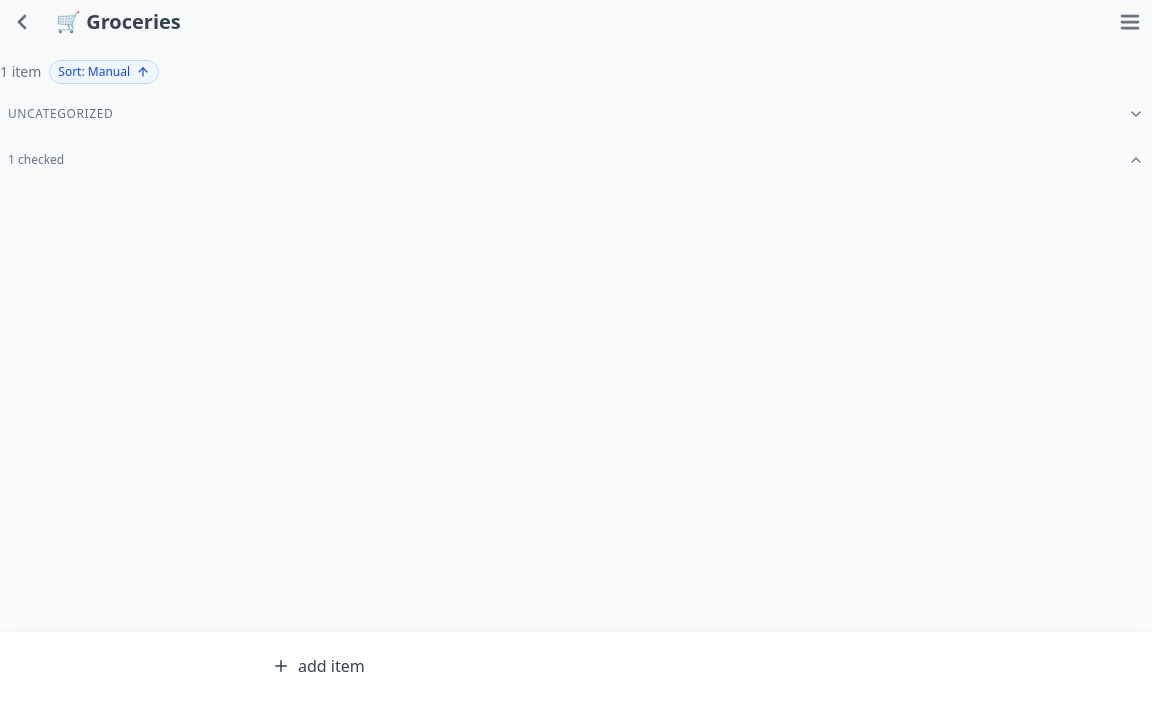
Test: ListPage menu presentation › keeps the delete checked modal open and reports errors when cleanup fails
The image size is (1152, 720).
Click the button named "List options".
click(1130, 22)  # box [1108, 0, 1151, 44]
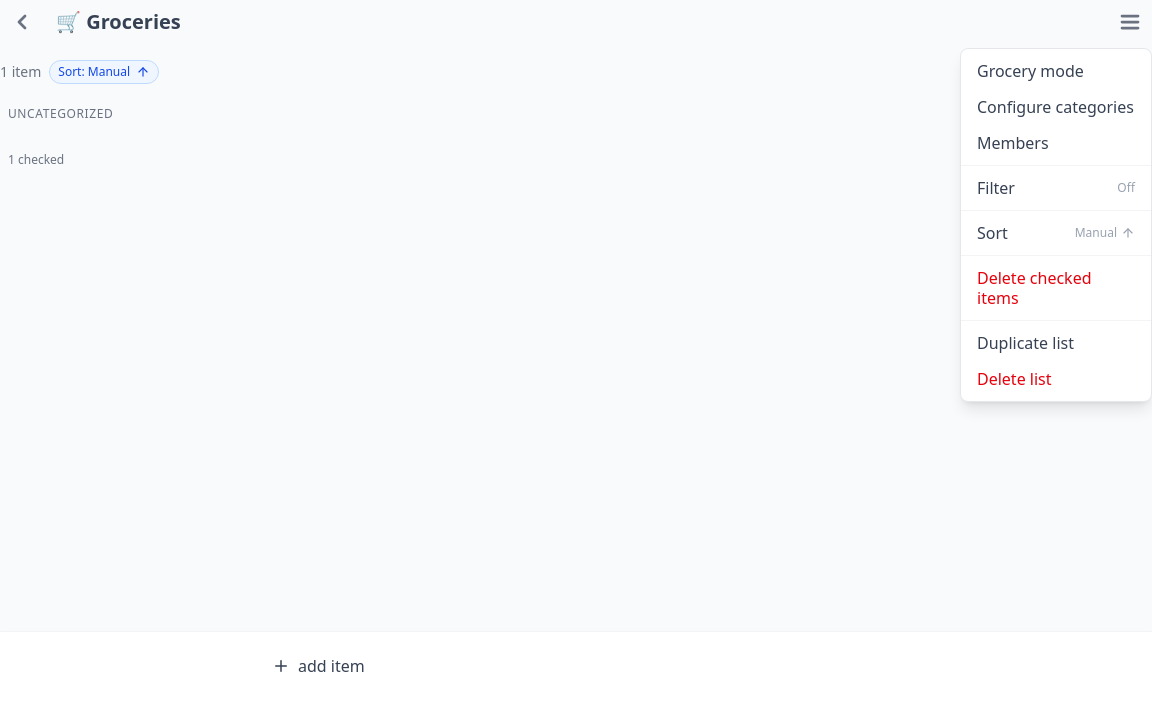
Click the button "Delete checked items".
click(1056, 288)  # box [961, 260, 1151, 316]
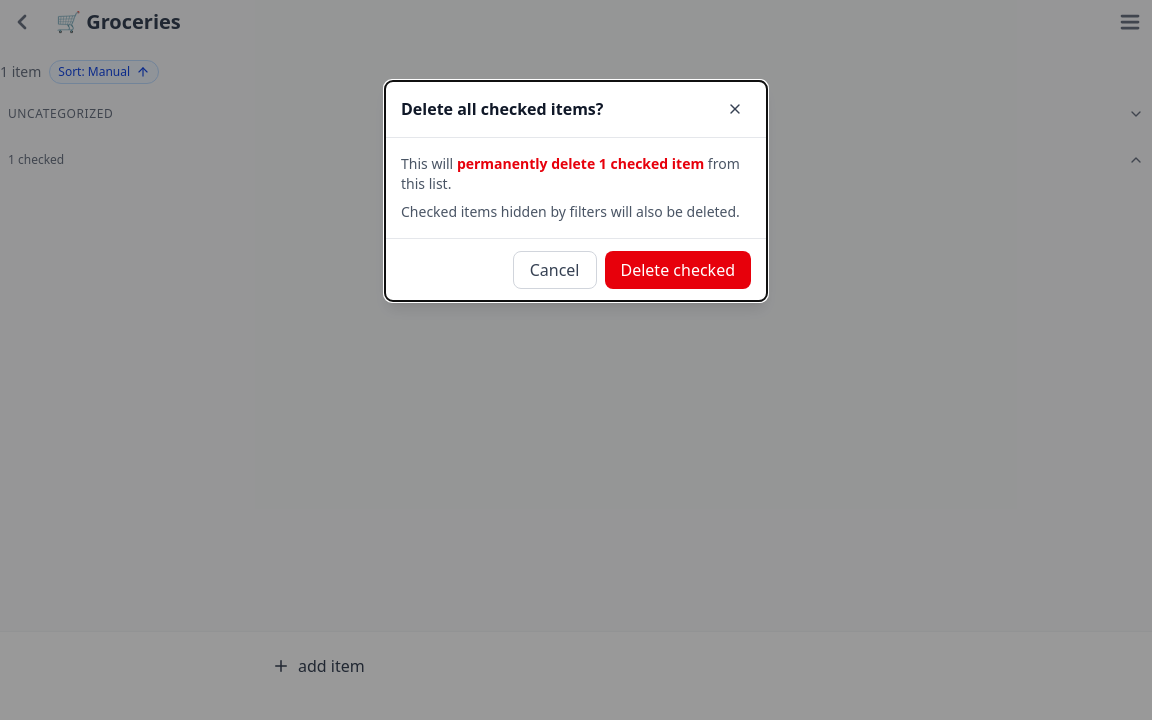
Click the button "Delete checked".
click(678, 270)  # box [604, 251, 751, 289]
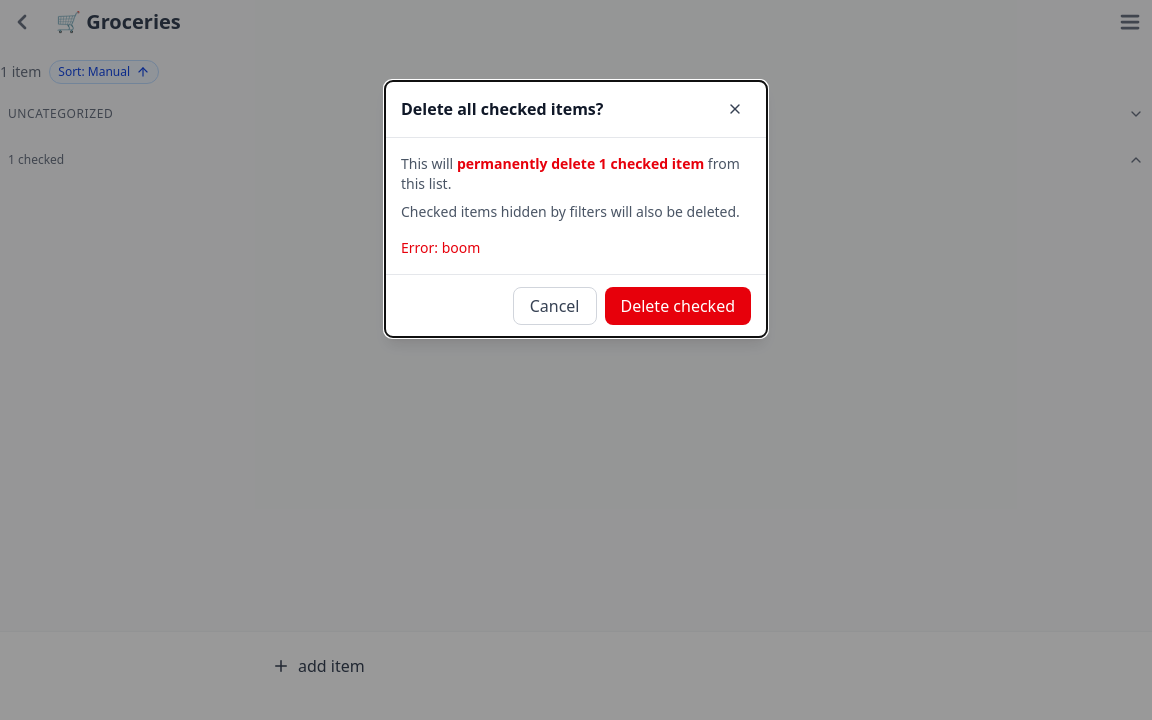
Expected: the dialog "Delete all checked items?" is shown, [384, 80, 768, 338]
Expected: the text "Error: boom" is shown, [401, 238, 480, 257]
